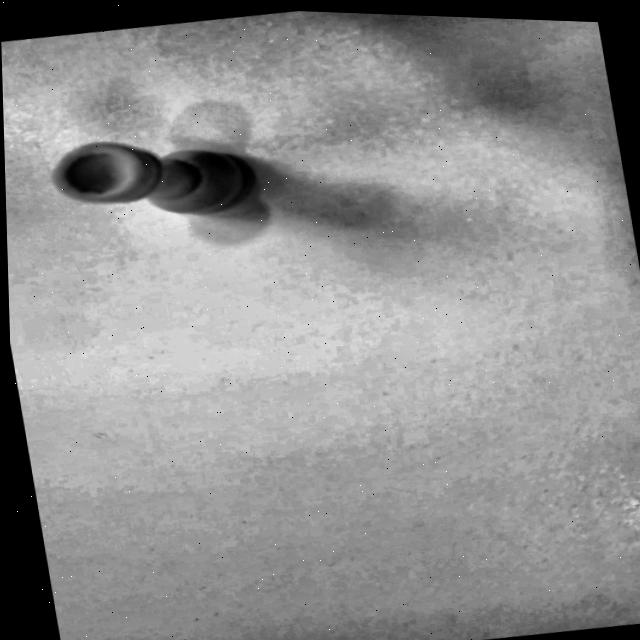white-rook: (33, 78, 337, 275)
